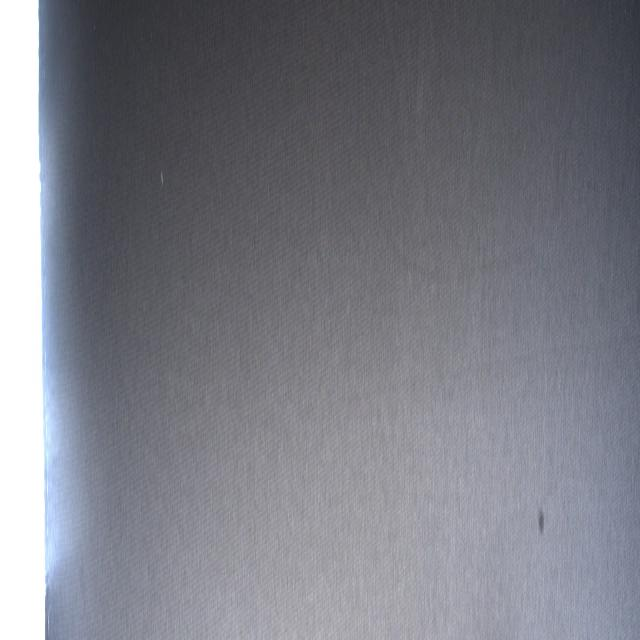crease: (362, 135, 512, 297), (362, 332, 603, 410), (384, 2, 428, 165)
whiteDefect: (160, 167, 164, 191)
